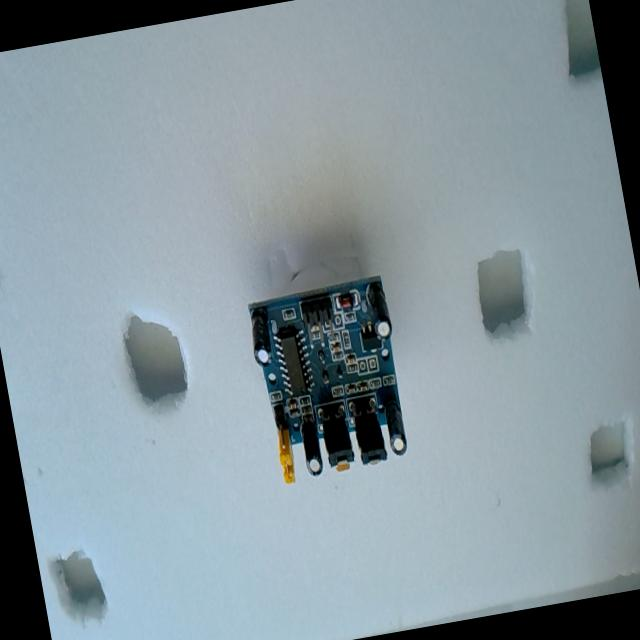Electrolytic capacitor: (364, 281, 394, 341), (247, 307, 276, 366), (382, 397, 409, 458), (298, 417, 325, 477)
IC: (272, 320, 317, 400)
pinheader: (300, 296, 335, 337)
